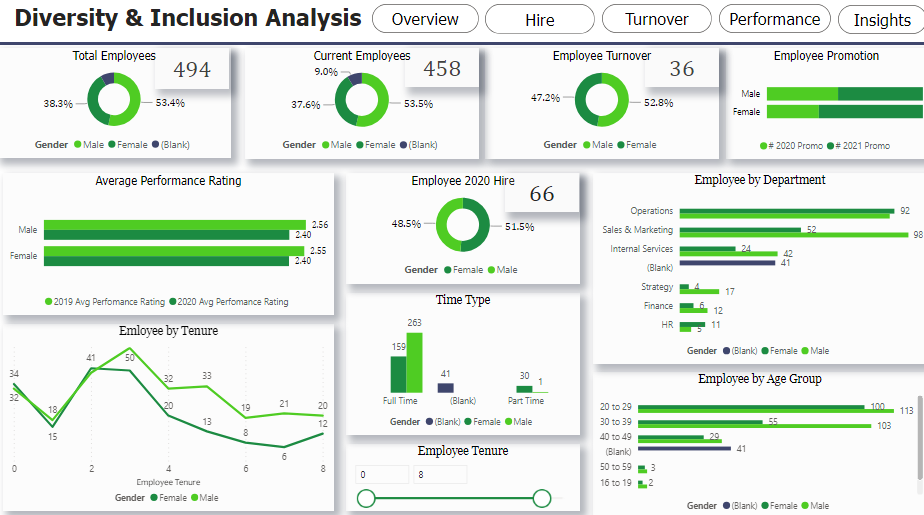

This screenshot's page, from the dashboard's own definition file:
{"tool":"powerbi","page":{"name":"Overview","canvas":[1280,720],"ordinal":0},"visuals":[{"type":"actionButton","box":[994,12.4,154,39.9],"z":0},{"type":"actionButton","box":[833.2,12.4,151.2,39.9],"z":1000},{"type":"actionButton","box":[672.3,12.4,151.2,41.2],"z":2000},{"type":"actionButton","box":[515.6,12.4,147.1,39.9],"z":3000},{"type":"textbox","box":[0,5.5,525.2,55],"z":4000},{"type":"shape","box":[0,60.5,1280,12.4],"z":5000},{"type":"card","title":"Current Employees","fields":{"Values":["Table.Current Employees"]},"box":[560.9,72.9,101.7,53.6],"z":6000},{"type":"card","title":"Total Employees","fields":{"Values":["Table.Total Employees"]},"box":[217.2,72.9,101.7,56.4],"z":7000},{"type":"donutChart","title":"Total Employees","fields":{"Category":["Pharma Group AG.Gender"],"Y":["Table.Total Employees"]},"box":[0,72.9,322.1,151.4],"z":8000},{"type":"clusteredColumnChart","title":"Time Type","fields":{"Category":["Pharma Group AG.Time Type"],"Series":["Pharma Group AG.Gender"],"Y":["Table.Total Employees"]},"box":[479.8,409.7,321.7,195.2],"z":9000},{"type":"card","title":"Employee Turnover","fields":{"Values":["Table.# 2020 Turnover"]},"box":[892.3,72.9,101.7,53.6],"z":10000},{"type":"donutChart","title":"Current Employees","fields":{"Category":["Pharma Group AG.Gender"],"Y":["Table.Current Employees"]},"box":[341,72.9,321.7,152.6],"z":11000},{"type":"donutChart","title":" Employee Turnover","fields":{"Category":["Pharma Group AG.Gender"],"Y":["Table.# 2020 Turnover"]},"box":[672.3,72.9,321.7,152.6],"z":12000},{"type":"hundredPercentStackedBarChart","title":" Employee Promotion","fields":{"Category":["Pharma Group AG.Gender"],"Y":["Table.# 2020 Promo","Table.# 2021 Promo"]},"box":[1003.7,72.9,276.3,152.6],"z":13000},{"type":"clusteredBarChart","title":" Average Performance Rating","fields":{"Category":["Pharma Group AG.Gender"],"Y":["Table.2019 Avg Perfomance Rating","Table.2020 Avg Perfomance Rating"]},"box":[8.2,244.7,455.1,195.2],"z":14000},{"type":"donutChart","title":" Employee 2020 Hire","fields":{"Category":["Pharma Group AG.Gender"],"Y":["Table.# 2020 Hire"]},"box":[479.8,244.7,321.7,152.6],"z":15000},{"type":"card","title":"Employee Turnover","fields":{"Values":["Table.# 2020 Hire"]},"box":[699.8,244.7,101.7,53.6],"z":16000},{"type":"slicer","title":"Employee Tenure","fields":{"Values":["Pharma Group AG.Employee Tenure"]},"box":[479.8,617.3,321.7,92.1],"z":17000},{"type":"clusteredBarChart","title":"Employee by Department","fields":{"Y":["Table.Total Employees"],"Category":["Pharma Group AG.Department in 2020"],"Series":["Pharma Group AG.Gender"]},"box":[820.8,244.7,459.2,262.6],"z":18000},{"type":"lineChart","title":"Emloyee by Tenure","fields":{"Category":["Pharma Group AG.Employee Tenure"],"Y":["Table.Total Employees"],"Series":["Pharma Group AG.Gender"]},"box":[8.2,452.3,455.1,257.1],"z":19000},{"type":"clusteredBarChart","title":"Employee by Age Group","fields":{"Category":["Pharma Group AG.Age group"],"Y":["Table.Total Employees"],"Series":["Pharma Group AG.Gender"]},"box":[820.8,518.3,459.2,202.1],"z":20000},{"type":"actionButton","box":[1157.6,13.7,122.4,39.9],"z":21000}]}

Visuals, with their boxes in screenshot pixels (x1, y1, x2, y2), scaled from the page's 1280x720 canvas onto the 924x515 screenshot:
actionButton: 718,9,829,37
actionButton: 601,9,711,37
actionButton: 485,9,594,38
actionButton: 372,9,478,37
textbox: 0,4,379,43
shape: 0,43,923,52
"Current Employees" card: 405,52,478,90
"Total Employees" card: 157,52,230,92
"Total Employees" donutChart: 0,52,233,160
"Time Type" clusteredColumnChart: 346,293,579,433
"Employee Turnover" card: 644,52,718,90
"Current Employees" donutChart: 246,52,478,161
" Employee Turnover" donutChart: 485,52,718,161
" Employee Promotion" hundredPercentStackedBarChart: 725,52,923,161
" Average Performance Rating" clusteredBarChart: 6,175,334,315
" Employee 2020 Hire" donutChart: 346,175,579,284
"Employee Turnover" card: 505,175,579,213
"Employee Tenure" slicer: 346,442,579,507
"Employee by Department" clusteredBarChart: 593,175,923,363
"Emloyee by Tenure" lineChart: 6,324,334,507
"Employee by Age Group" clusteredBarChart: 593,371,923,514
actionButton: 836,10,923,38
